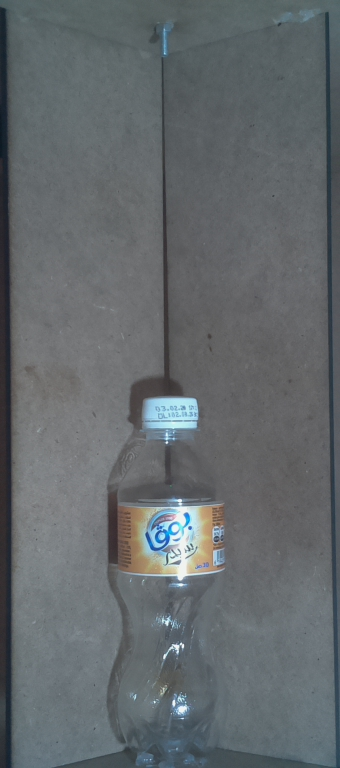Bouteille_0.3L: (101, 387, 232, 768)
